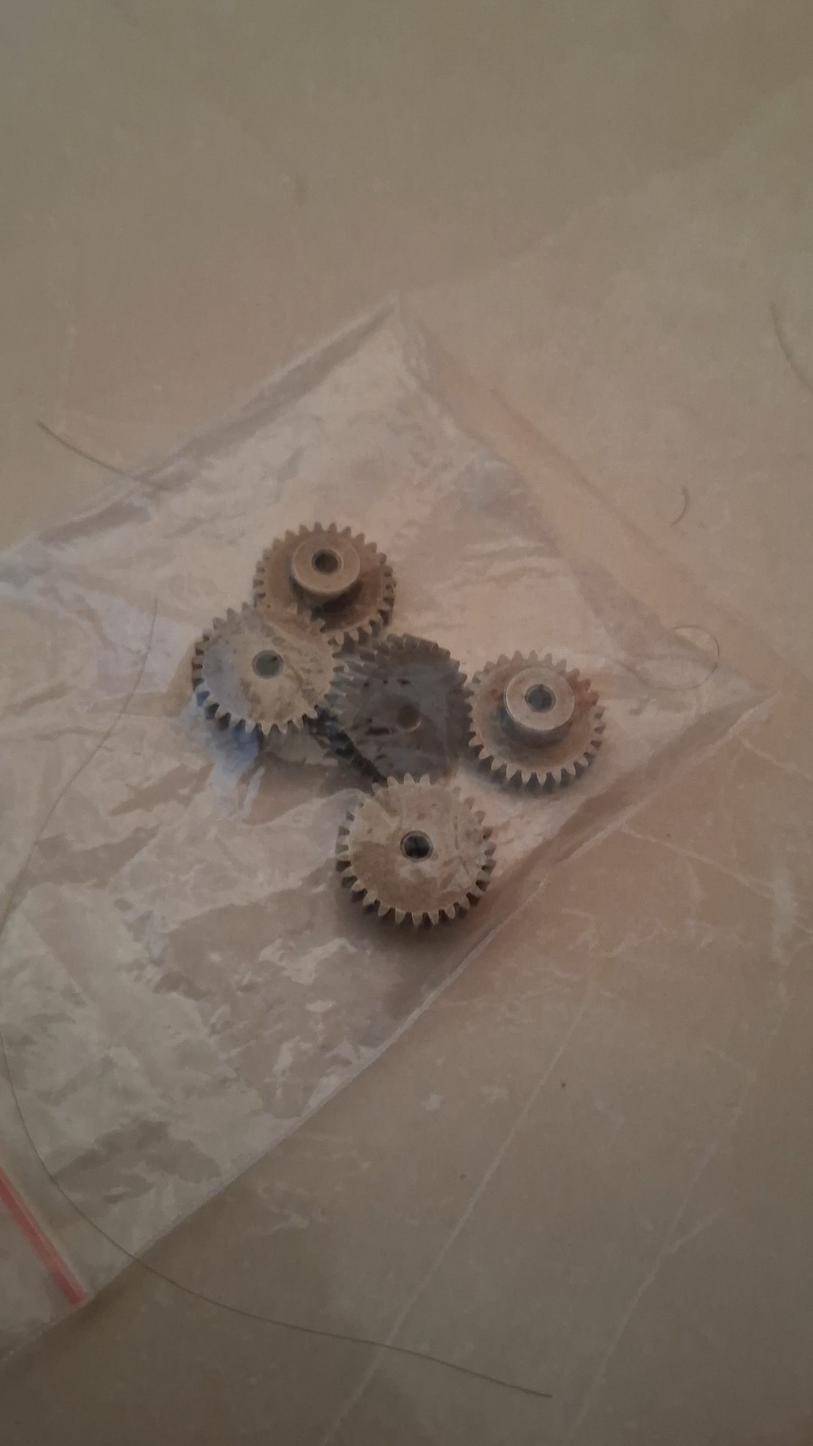spur gear: (337, 777, 494, 925), (326, 636, 467, 779), (192, 604, 336, 736), (469, 653, 604, 788), (254, 524, 394, 647)
